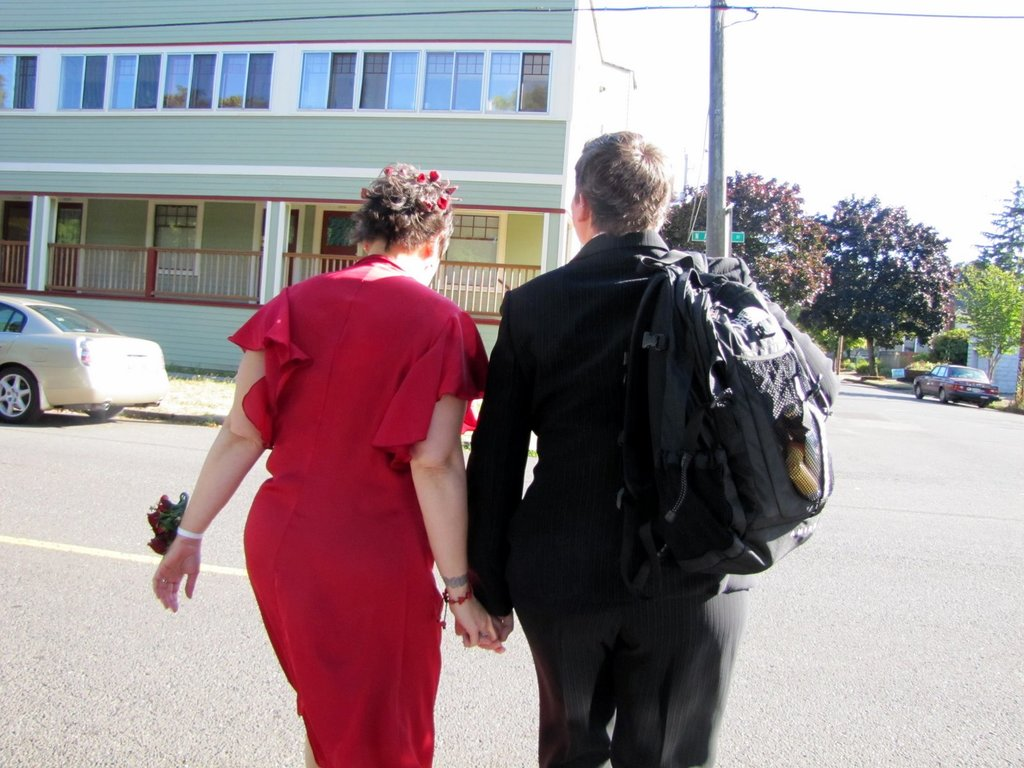Car: (0, 293, 163, 426), (913, 361, 1000, 406)
